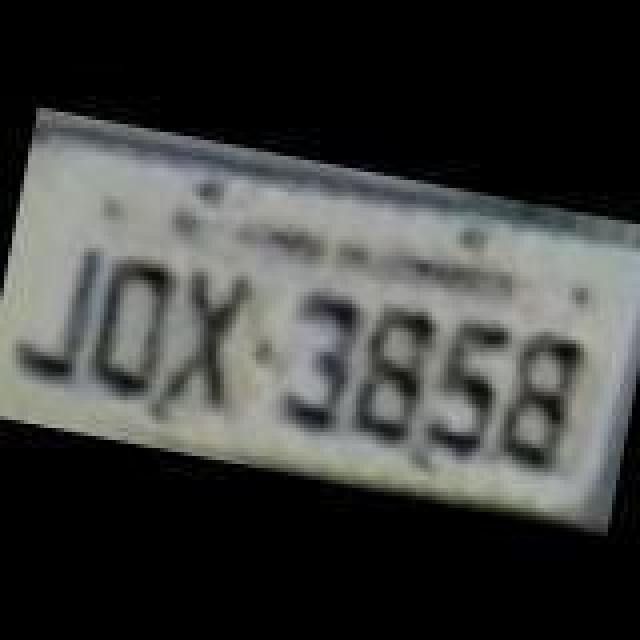3: (260, 282, 364, 438)
5: (414, 304, 514, 464)
8: (484, 320, 588, 480), (342, 292, 442, 452)
J: (2, 230, 110, 386)
O: (78, 252, 178, 404)
X: (156, 264, 260, 416)
